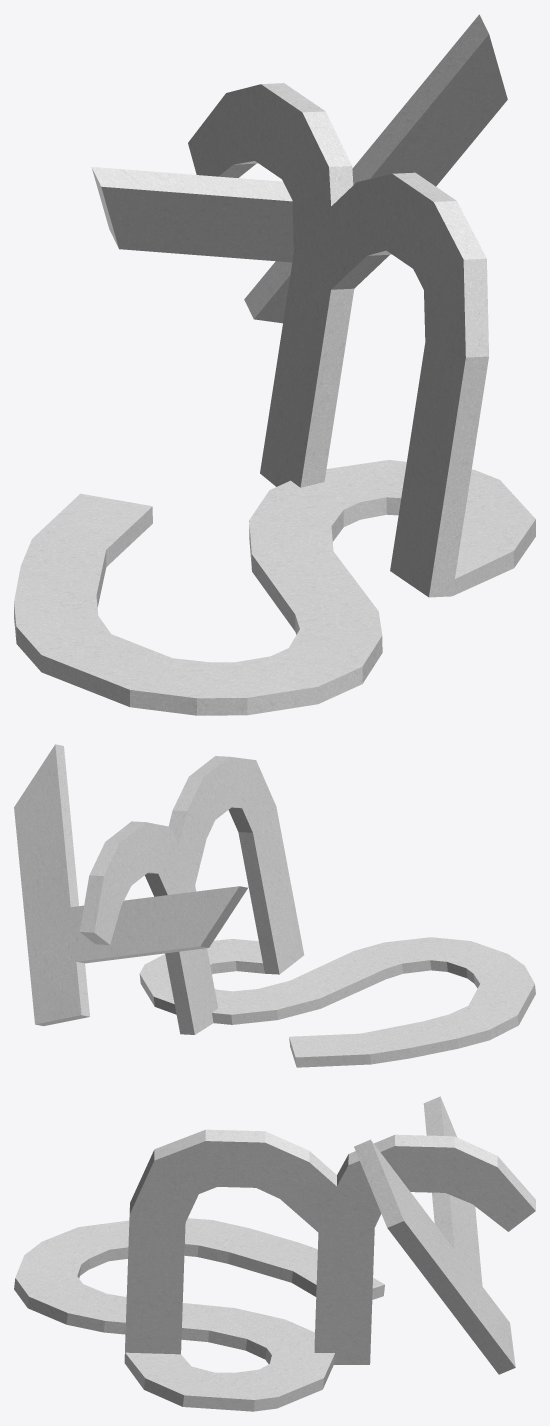
File: La_main.gltf
3 views of the same model, one above another, from view 1: azimuth 30°, elevation 25°; view 2: azimuth 150°, elevation 25°; view 3: azimuth 270°, elevation 25° (orthographic). The views are drawn at different scales.
Visible parts, largest first — view 1: La_main; view 2: La_main; view 3: La_main.
Boxes of the visible parts, x1=… form: La_main: x1=14, y1=14, x2=535, y2=715; La_main: x1=14, y1=744, x2=535, y2=1067; La_main: x1=14, y1=1096, x2=535, y2=1411.
Size of the model in its own units: 49.64 by 31.08 by 49.87.
1 material, 1 textured.
